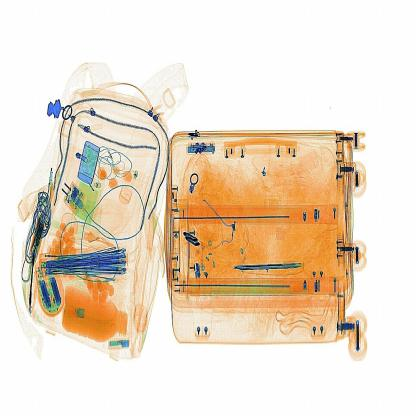pliers: (232, 254, 309, 279)
